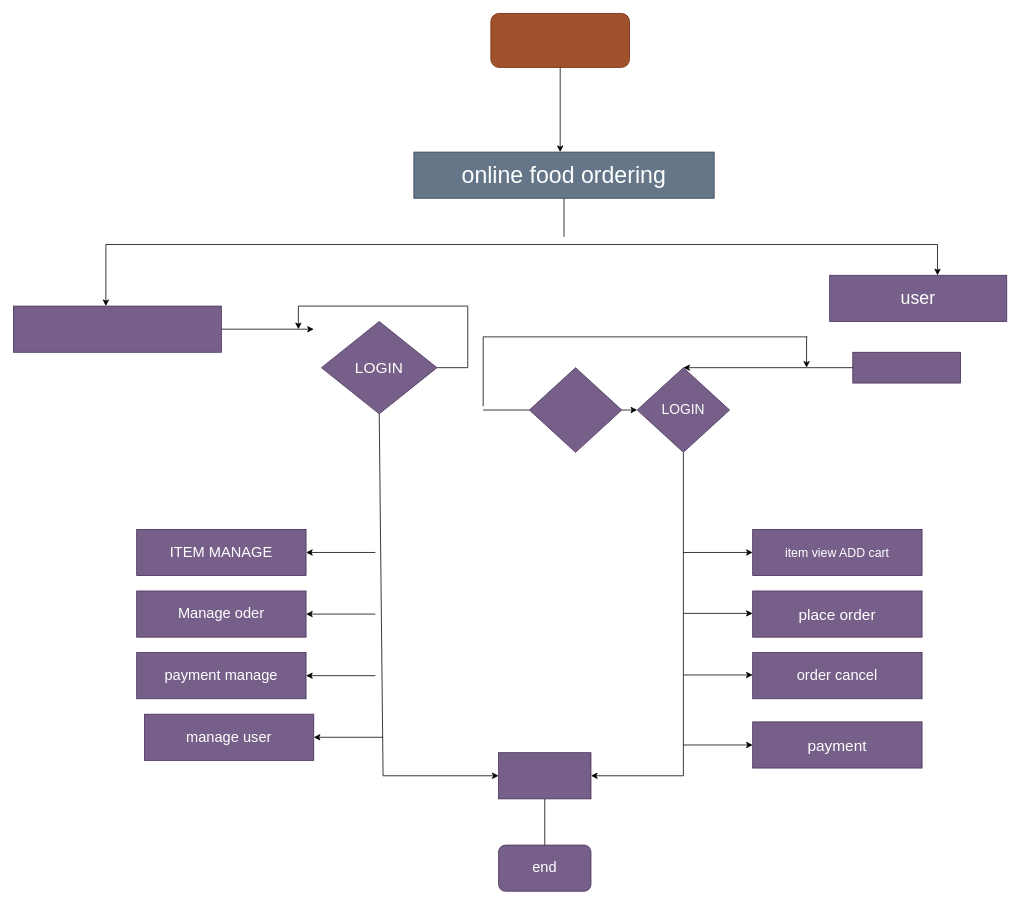
This 1020x905 diagram has some shape labels left out. Each missing label, with the box of its shape:
ADMIN: (13, 305, 221, 352)
lagout: (498, 752, 591, 799)
REG: (529, 367, 622, 452)
show items: (852, 352, 961, 383)
start: (490, 13, 629, 67)
